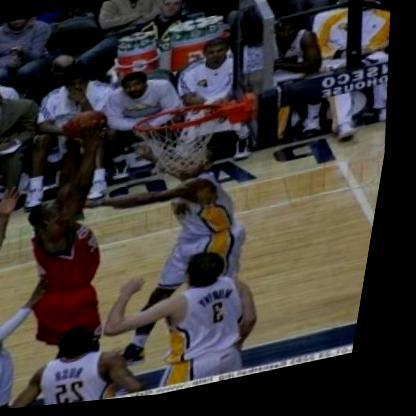basketball: (64, 105, 115, 149)
